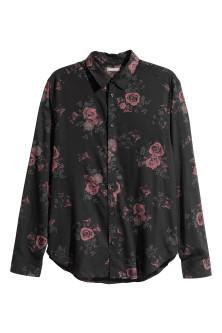teeshirt: (8, 50, 217, 283)
